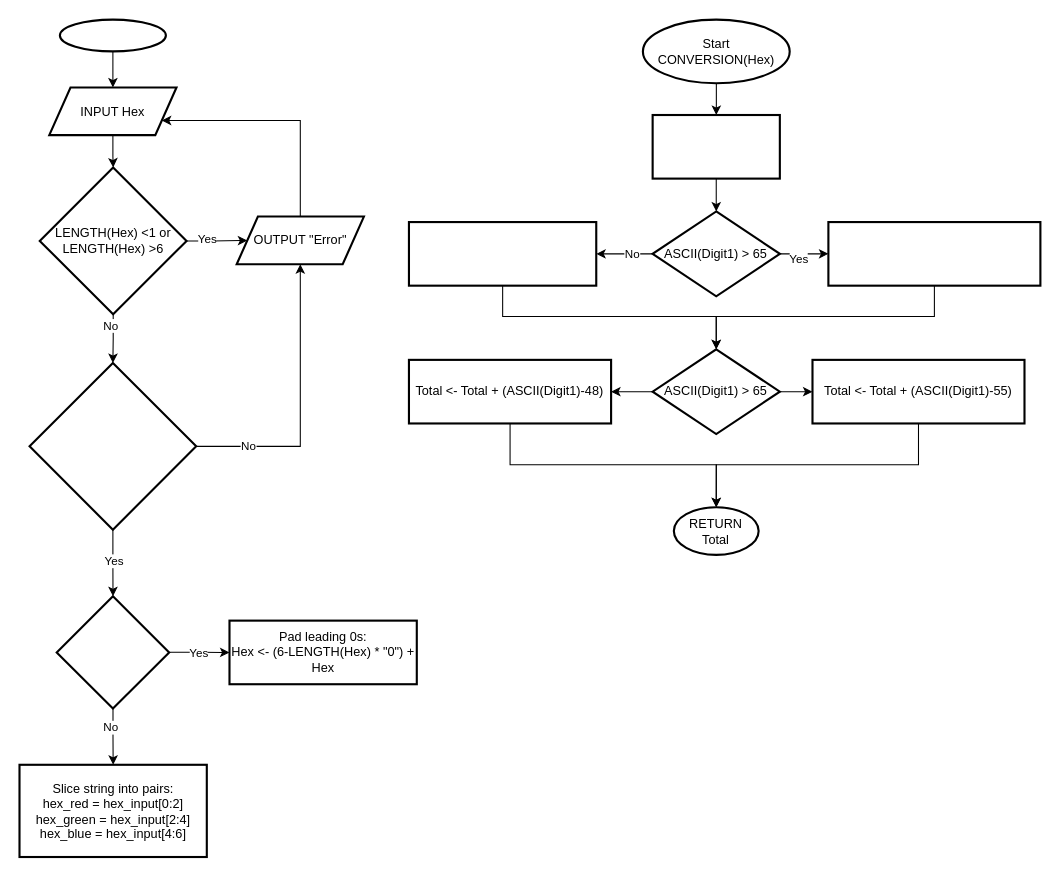
Some shapes in this 1060 by 876 pixel diagram are drawn without their labels. The shapes that lost their labels are listed below. From the top down, each one's centre as x and y in pixels, then its label:
At point 112,35: "Start".
At point 715,146: "Total <- 0 Digit1 <- Hex[0] Digit2 <- Hex[1]".
At point 502,253: "Total <- ( ASCII(Digit1)-48) * 16".
At point 934,253: "Total <- ( ASCII(Digit1)-55) * 16".
At point 112,445: "Check each character Hex is between (ASCII 48 and 57) OR (ASCII 65 and 70)".
At point 112,652: "LENGTH(Hex) <6".
